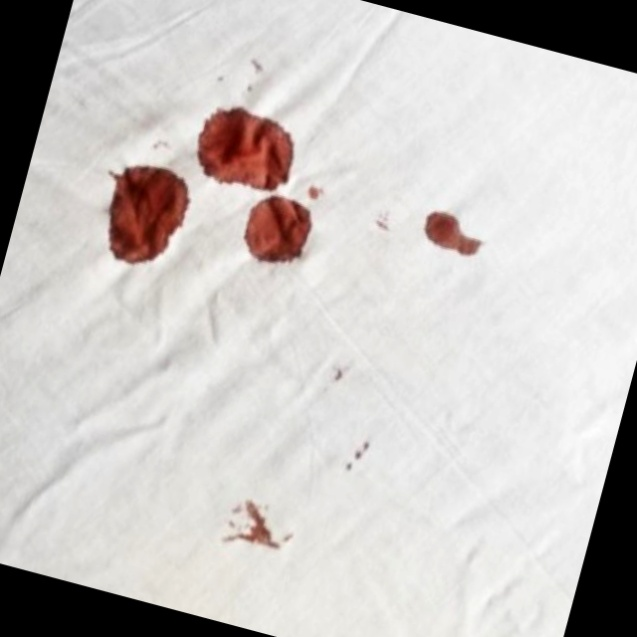blood: (91, 154, 202, 277), (186, 95, 310, 201), (238, 184, 321, 276), (411, 201, 495, 273)
